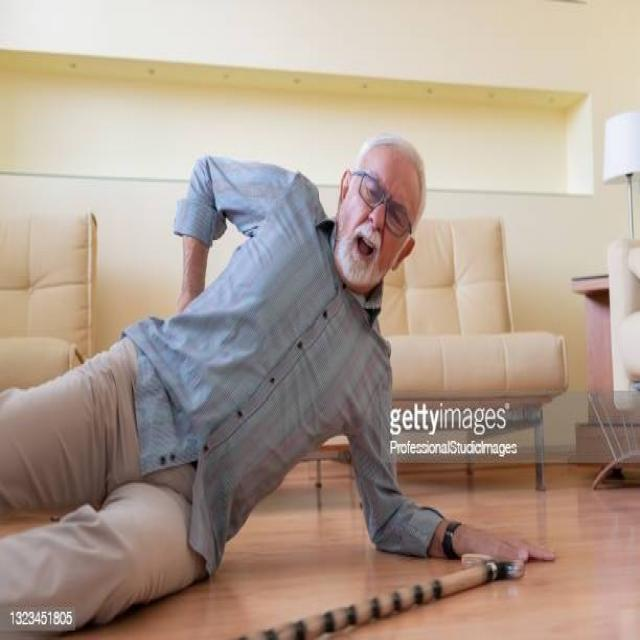fall: (0, 133, 511, 634)
